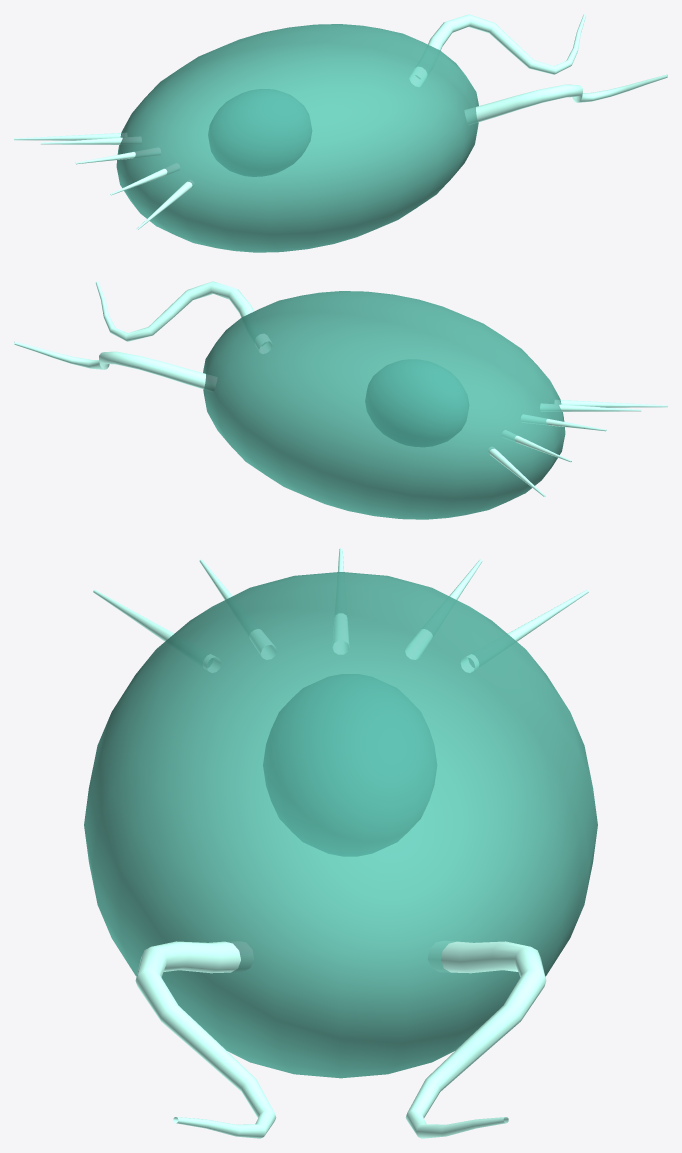
The model's file is plankton.glb.
The picture shows the model from 3 angles, top to bottom: view 1: azimuth 30°, elevation 25°; view 2: azimuth 150°, elevation 25°; view 3: azimuth 270°, elevation 25°; orthographic projection. The views are drawn at different scales.
Parts seen in each view (by area): view 1: plankton_plankton_membrane, plankton_plankton_flagella, plankton_plankton_nucleus; view 2: plankton_plankton_membrane, plankton_plankton_flagella, plankton_plankton_nucleus; view 3: plankton_plankton_membrane, plankton_plankton_nucleus, plankton_plankton_flagella.
Boxes of the visible parts, left/top/right/bottom form: plankton_plankton_membrane: left=116, top=24, right=478, bottom=252; plankton_plankton_flagella: left=14, top=14, right=667, bottom=230; plankton_plankton_nucleus: left=208, top=89, right=311, bottom=176; plankton_plankton_membrane: left=203, top=291, right=565, bottom=519; plankton_plankton_flagella: left=14, top=281, right=667, bottom=497; plankton_plankton_nucleus: left=365, top=359, right=468, bottom=446; plankton_plankton_membrane: left=84, top=572, right=597, bottom=1078; plankton_plankton_nucleus: left=263, top=674, right=436, bottom=856; plankton_plankton_flagella: left=93, top=548, right=588, bottom=1138.
Bounding box in the file's own units: 2.78 × 0.92 × 1.12.
